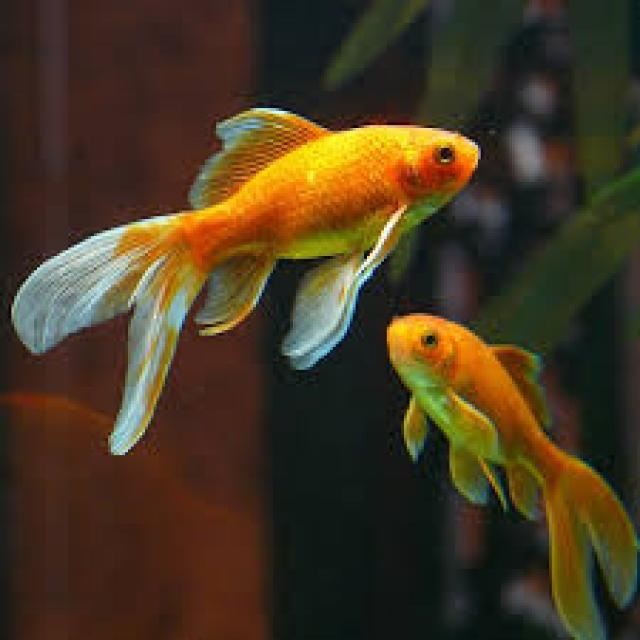goldfish: (13, 62, 512, 444), (390, 292, 640, 640)
